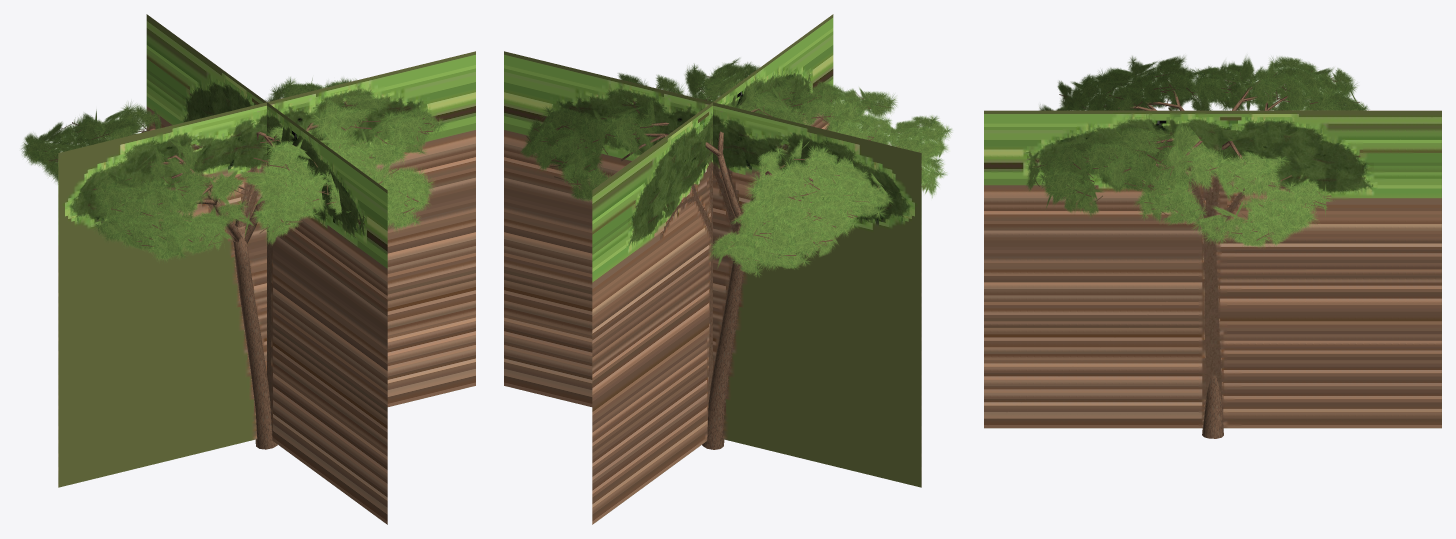
File: tree_pine.glb
3 renders of one model, left to right at view 1: azimuth 30°, elevation 25°; view 2: azimuth 150°, elevation 25°; view 3: azimuth 270°, elevation 25°, orthographic. The views are drawn at different scales.
Parts seen in each view (by area): view 1: far, crown, trunk; view 2: far, crown, trunk; view 3: far, crown, trunk.
Boxes of the visible parts, x1,y1,x2,y2 form: far: [58, 14, 475, 524]; crown: [21, 77, 446, 261]; trunk: [133, 122, 318, 449]; far: [504, 14, 921, 524]; crown: [520, 58, 952, 277]; trunk: [621, 106, 833, 449]; far: [984, 110, 1441, 428]; crown: [1026, 56, 1369, 247]; trunk: [1118, 81, 1287, 438].
Size of the model in its own units: 16.96 by 13.32 by 16.96.
3 materials, 3 textured.
